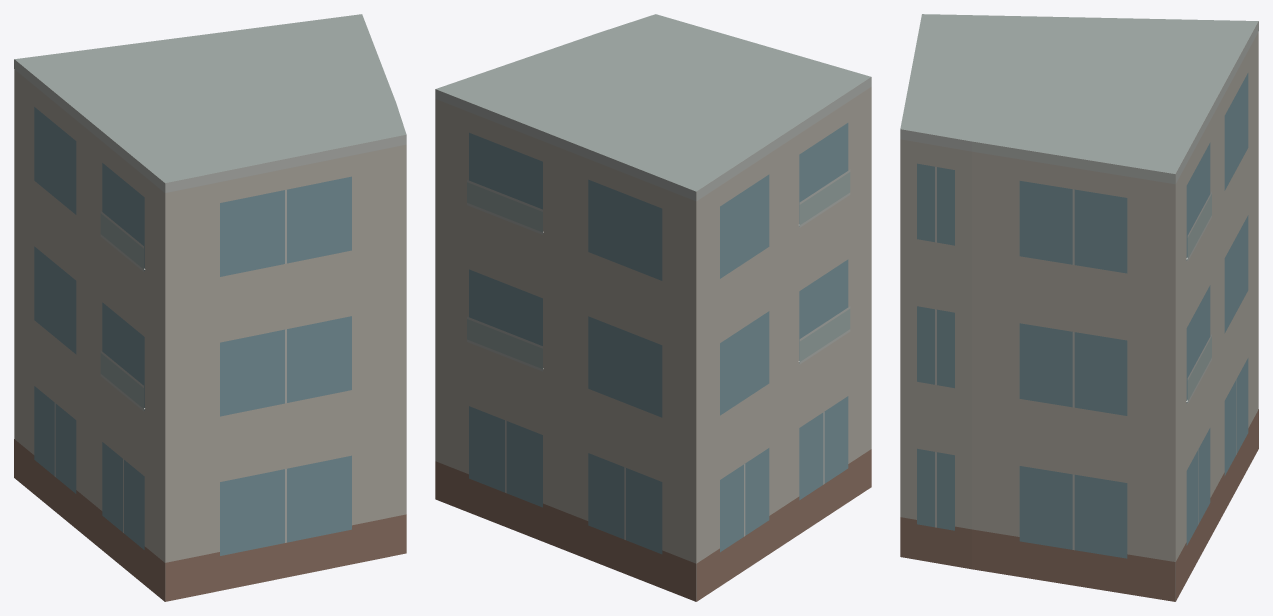
The model's file is survey-upis-32897344.glb.
The picture shows the model from 3 angles, left to right: view 1: azimuth 30°, elevation 25°; view 2: azimuth 150°, elevation 25°; view 3: azimuth 270°, elevation 25°; orthographic projection. The views are drawn at different scales.
Visible parts, largest first — view 1: survey-upis-32897344.tmp; view 2: survey-upis-32897344.tmp; view 3: survey-upis-32897344.tmp.
Boxes of the visible parts, box(x1,y1,x2,y2) form: survey-upis-32897344.tmp: box(14, 14, 406, 601); survey-upis-32897344.tmp: box(435, 14, 871, 601); survey-upis-32897344.tmp: box(900, 14, 1258, 601).
Bounding box in the file's own units: 8.28 × 10.3 × 7.83.
